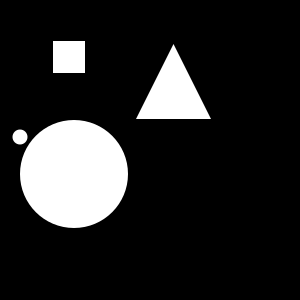circle: (53, 41, 85, 73)
rectangle: (20, 120, 128, 228), (12, 130, 28, 144)
triangle: (136, 44, 211, 119)
